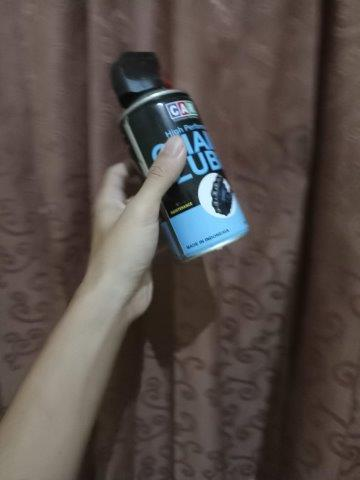kaleng: (119, 88, 250, 262)
